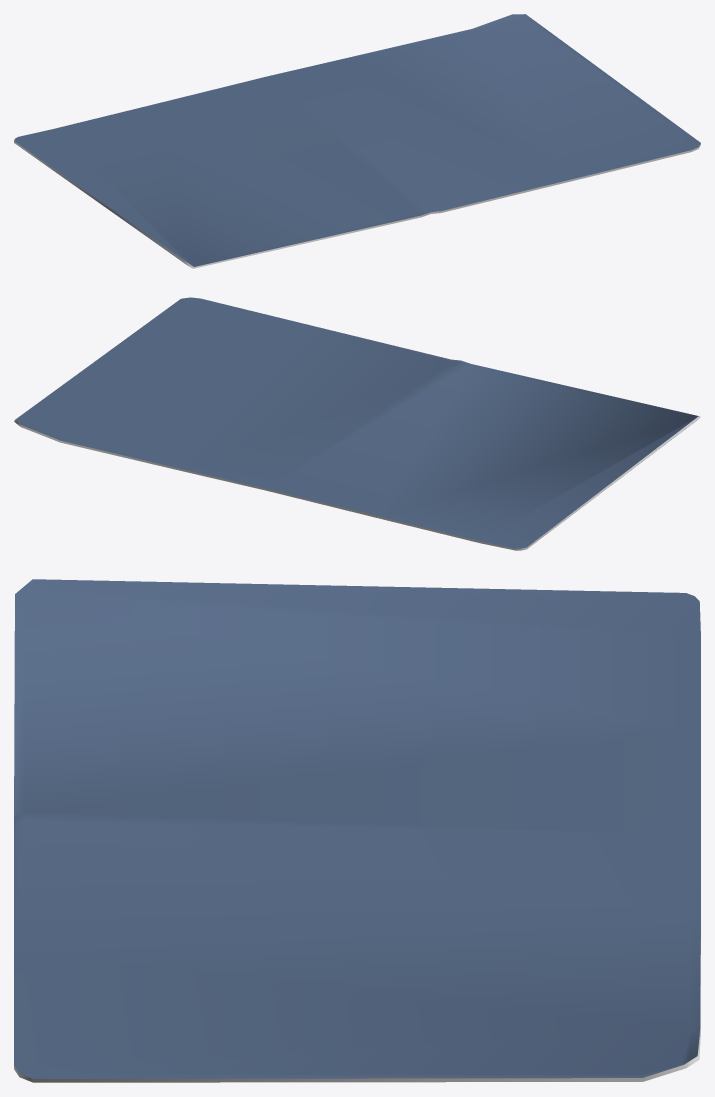
File: SM_H_Government_Office_Footcloth_11b_ATLAS.fbx
3 renders of one model, top to bottom at view 1: azimuth 30°, elevation 25°; view 2: azimuth 150°, elevation 25°; view 3: azimuth 270°, elevation 25°, orthographic. The views are drawn at different scales.
Visible parts, largest first — view 1: SM_H_Government_Office_Footcloth_11b_ATLAS; view 2: SM_H_Government_Office_Footcloth_11b_ATLAS; view 3: SM_H_Government_Office_Footcloth_11b_ATLAS.
Boxes of the visible parts, x1,y1,x2,y2 form: SM_H_Government_Office_Footcloth_11b_ATLAS: (14,14,700,268); SM_H_Government_Office_Footcloth_11b_ATLAS: (14,297,700,550); SM_H_Government_Office_Footcloth_11b_ATLAS: (14,579,700,1082).
Size of the model in its own units: 549 by 329 by 12.33.
